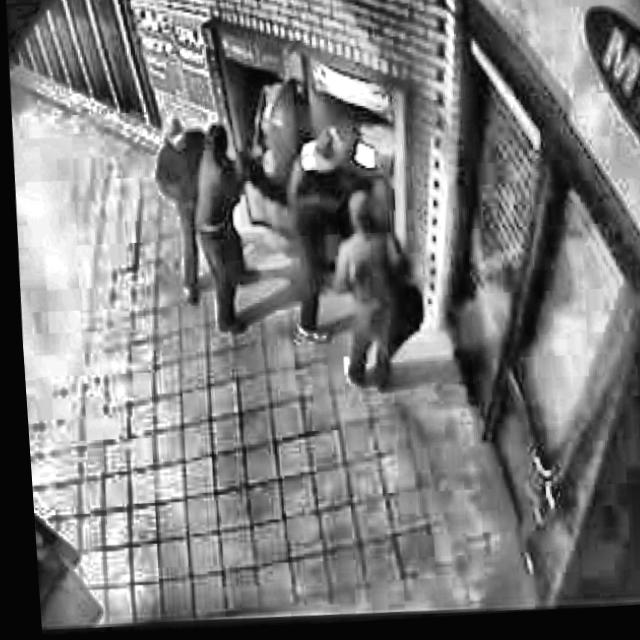burglary: (178, 61, 429, 409)
